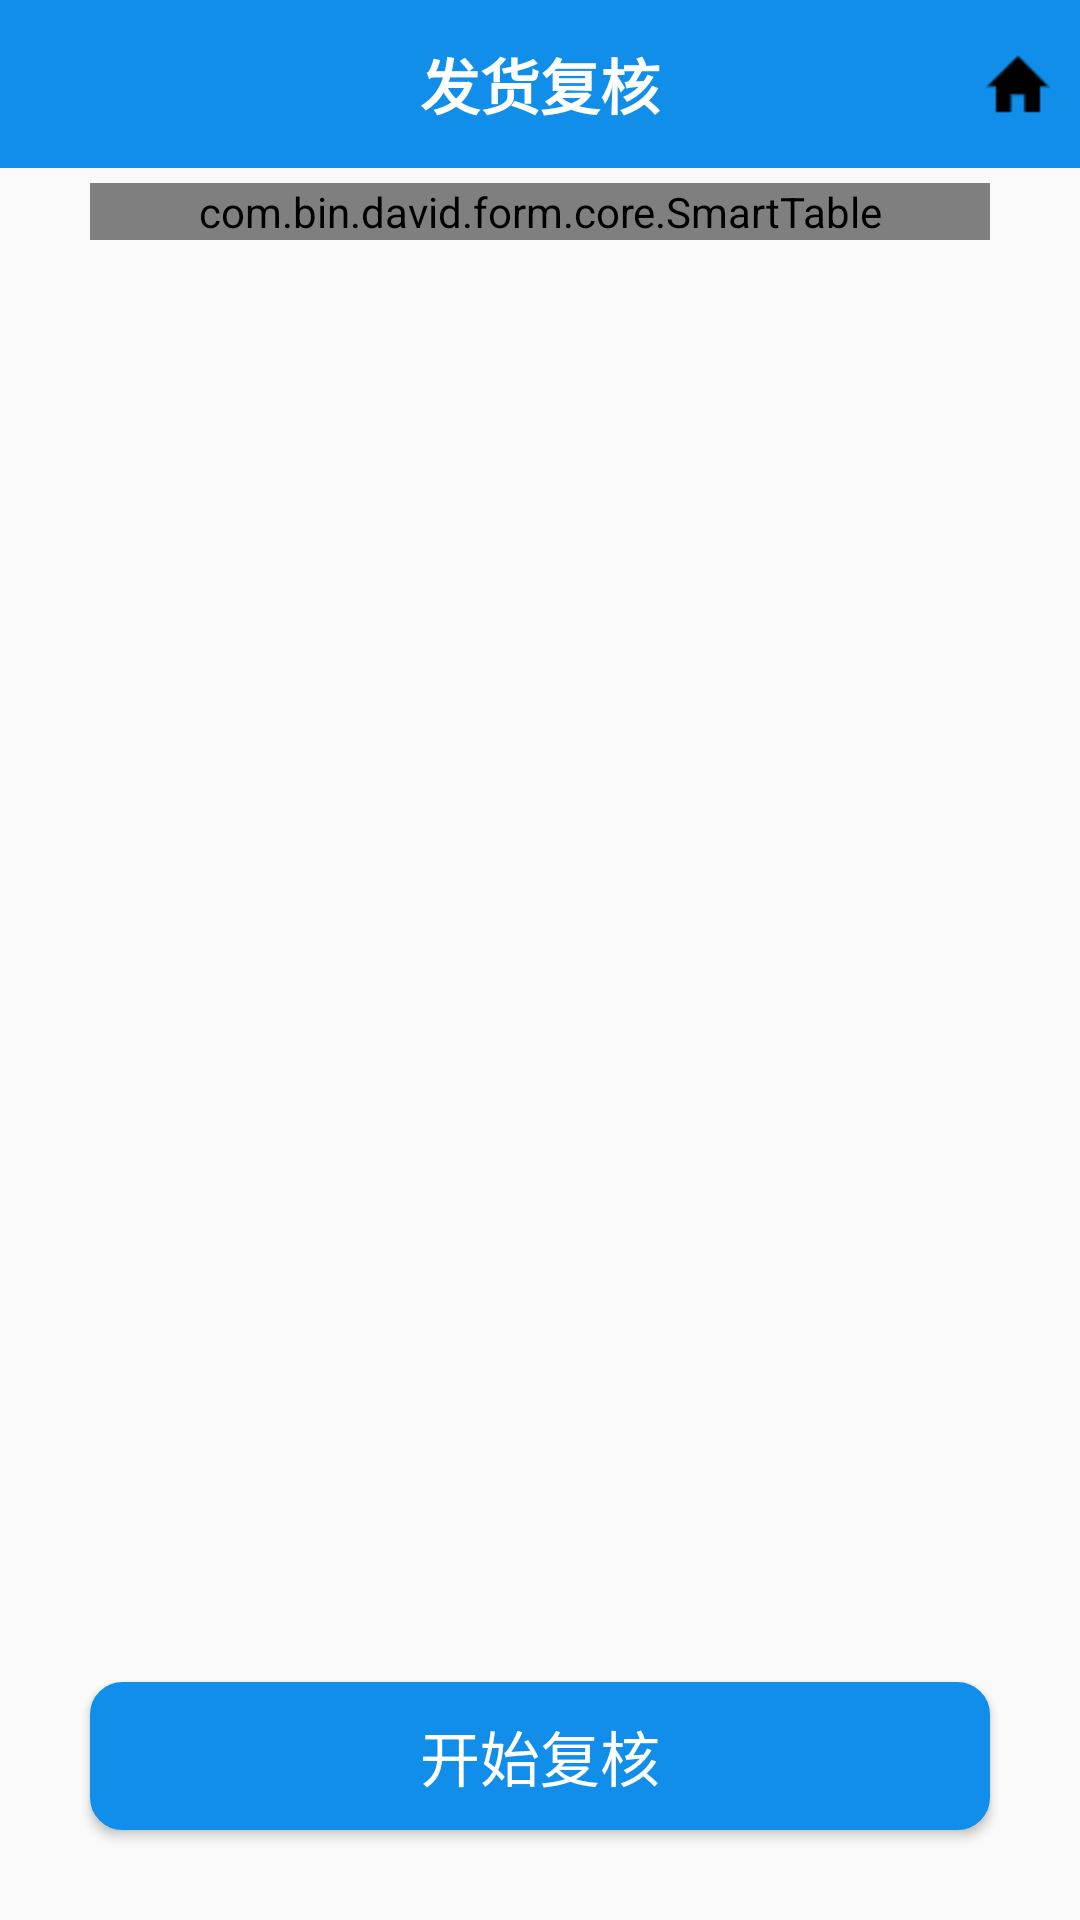

Locate icon controls on the screen. Image size 1080px x 1920px, boxes as BBox(x1, y1, x2, y2).
home: BBox(986, 55, 1050, 113)
